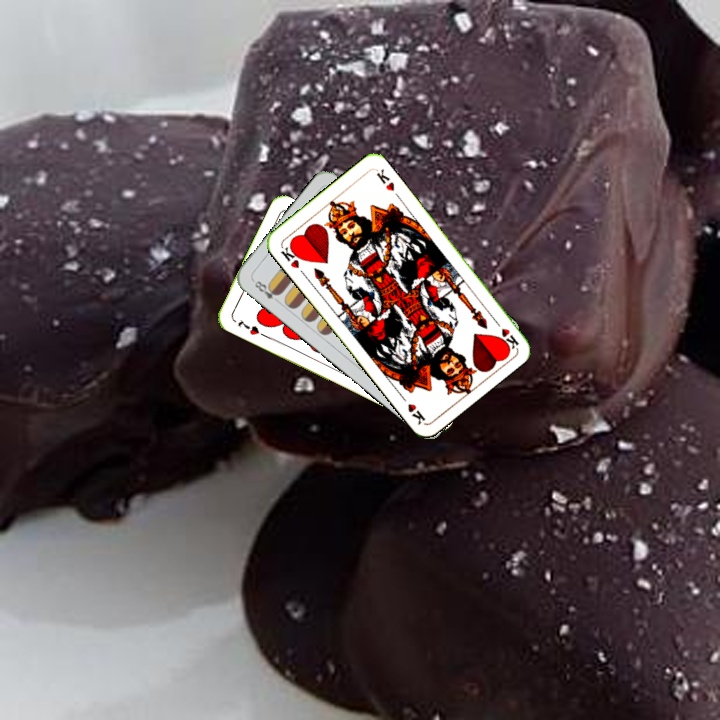E8: (250, 276, 283, 306)
H7: (234, 315, 267, 339)
HK: (489, 314, 521, 351), (276, 241, 304, 271)
